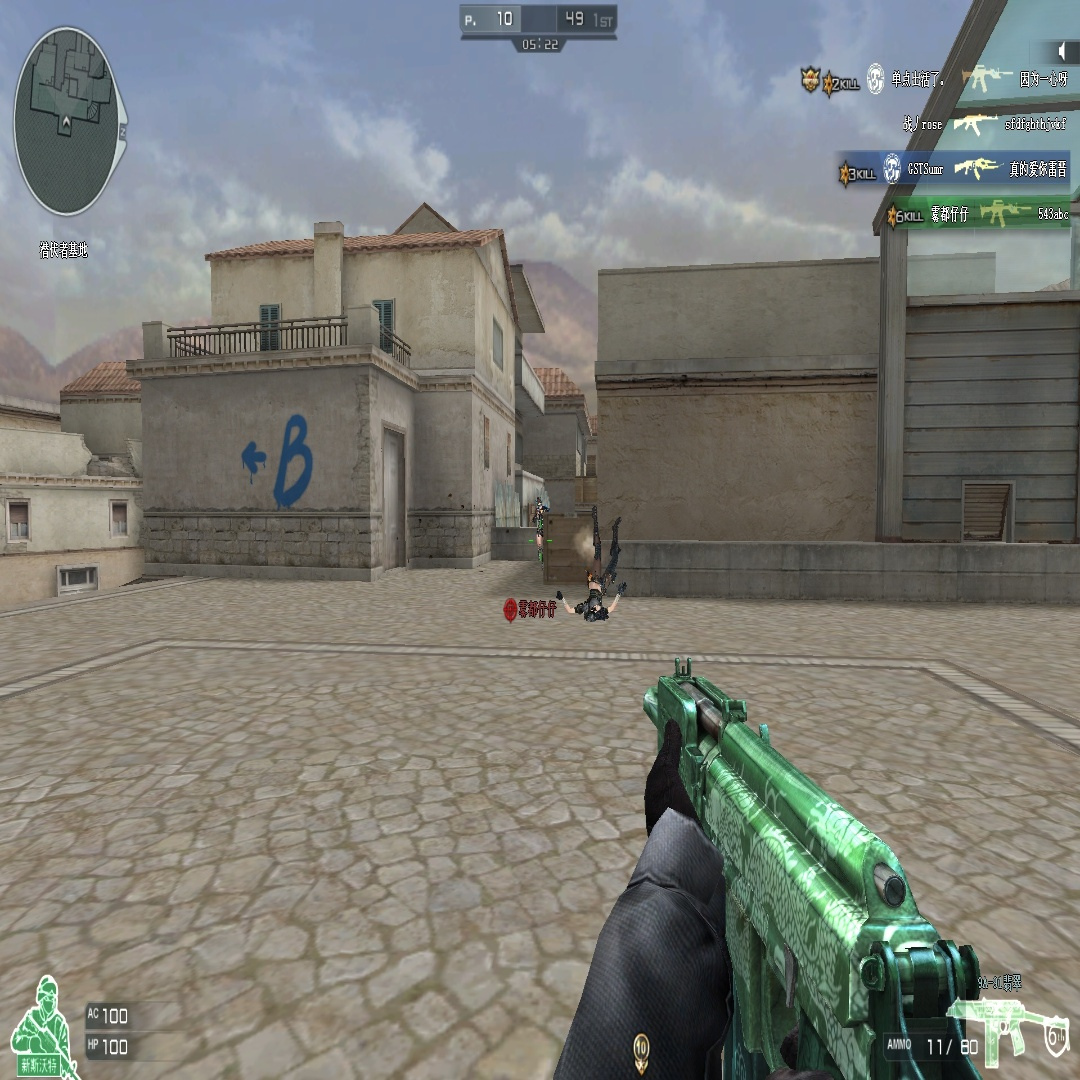head: (537, 498, 543, 509)
p: (533, 501, 545, 564)
